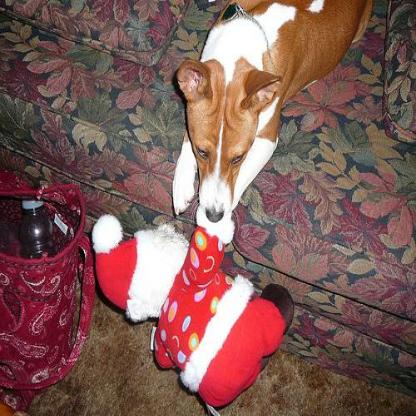basenji: (172, 1, 376, 236)
